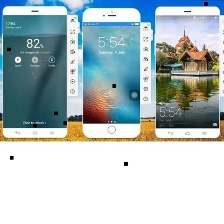phone: (152, 4, 223, 140), (0, 3, 70, 139), (78, 4, 142, 140)
